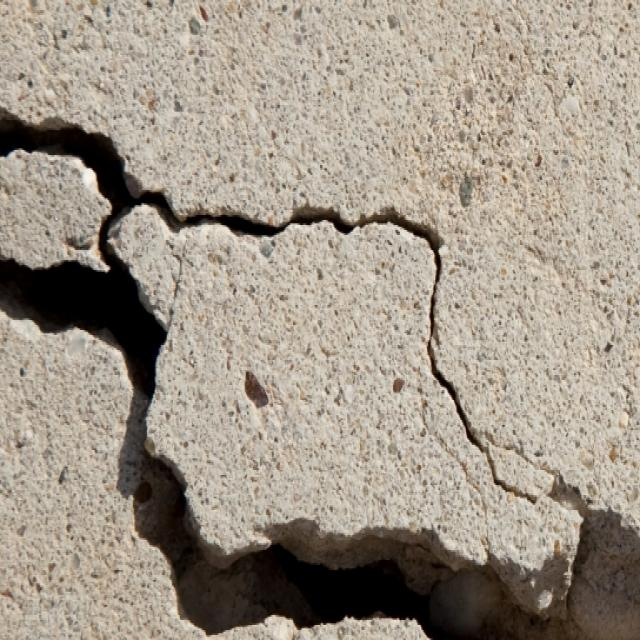crack: (187, 201, 482, 431)
spall: (109, 430, 639, 638), (1, 109, 184, 429)
